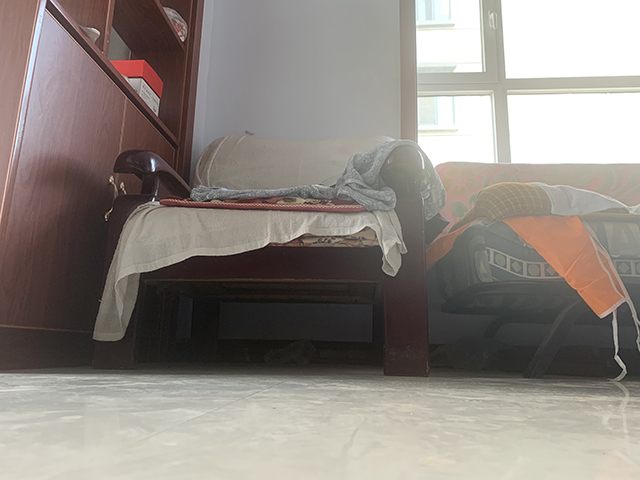cabinet: (1, 1, 205, 372)
sofa: (88, 130, 446, 377), (425, 160, 640, 379)
